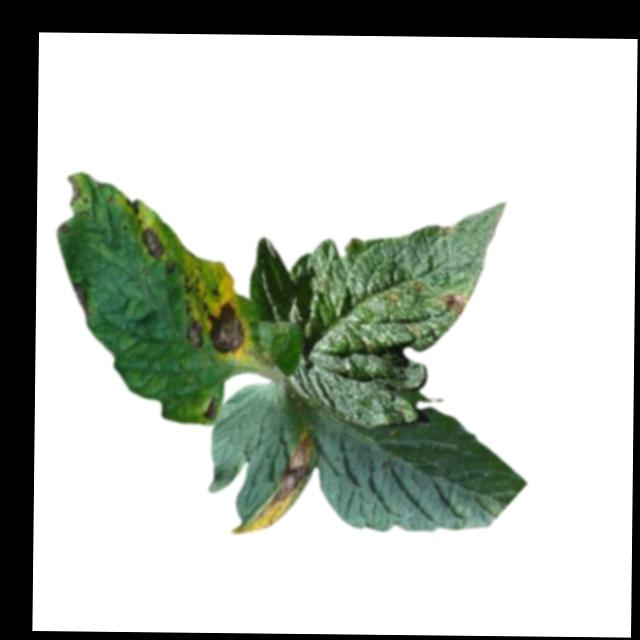Early_blight: (229, 429, 313, 539), (203, 299, 247, 355), (65, 274, 92, 321), (133, 226, 165, 259), (178, 310, 203, 345), (435, 293, 465, 318), (65, 173, 81, 210), (202, 397, 218, 422), (120, 196, 141, 215)
